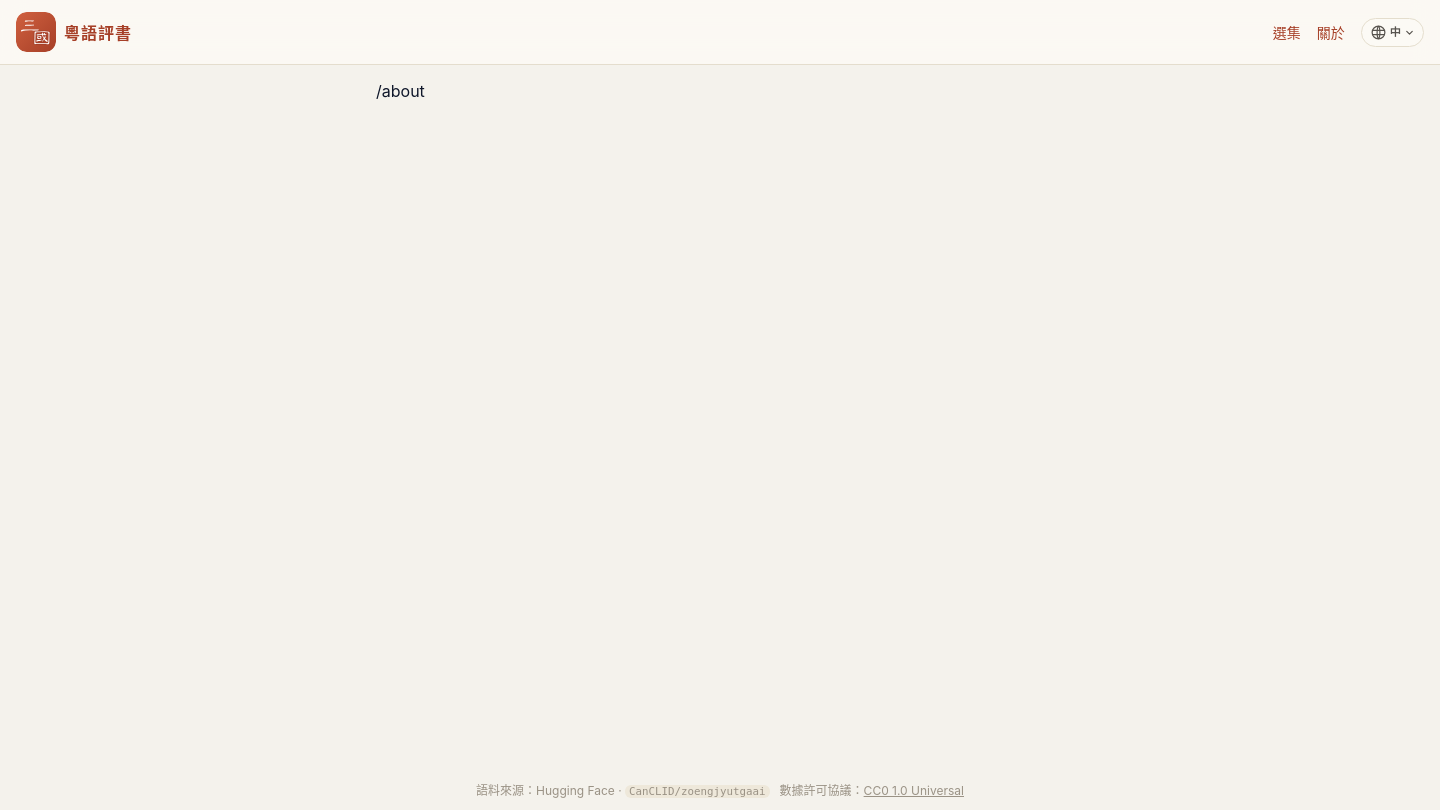
Layout brand and source footer › renders the wordmark and the source footer in the active locale
expect the text "粵語評書" is shown: met, box [64,20,132,44]
expect the text "語料來源：Hugging Face · CanCLID/zoengjyutgaai" is shown: met, box [476,781,770,798]
Click the button "中".
click(1392, 32)  # box [1361,18,1424,46]
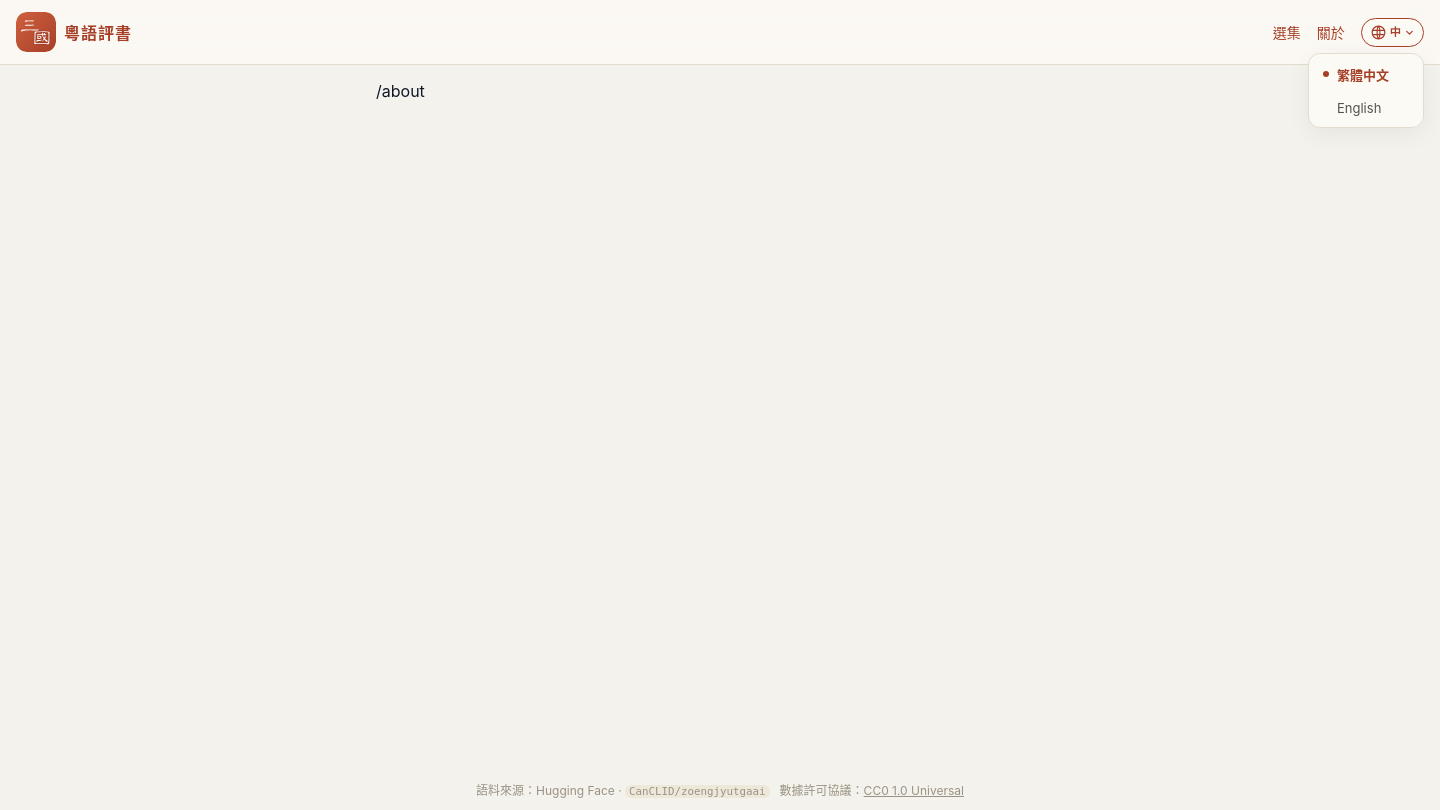
Click the button "English".
click(1366, 108)  # box [1313,92,1419,122]
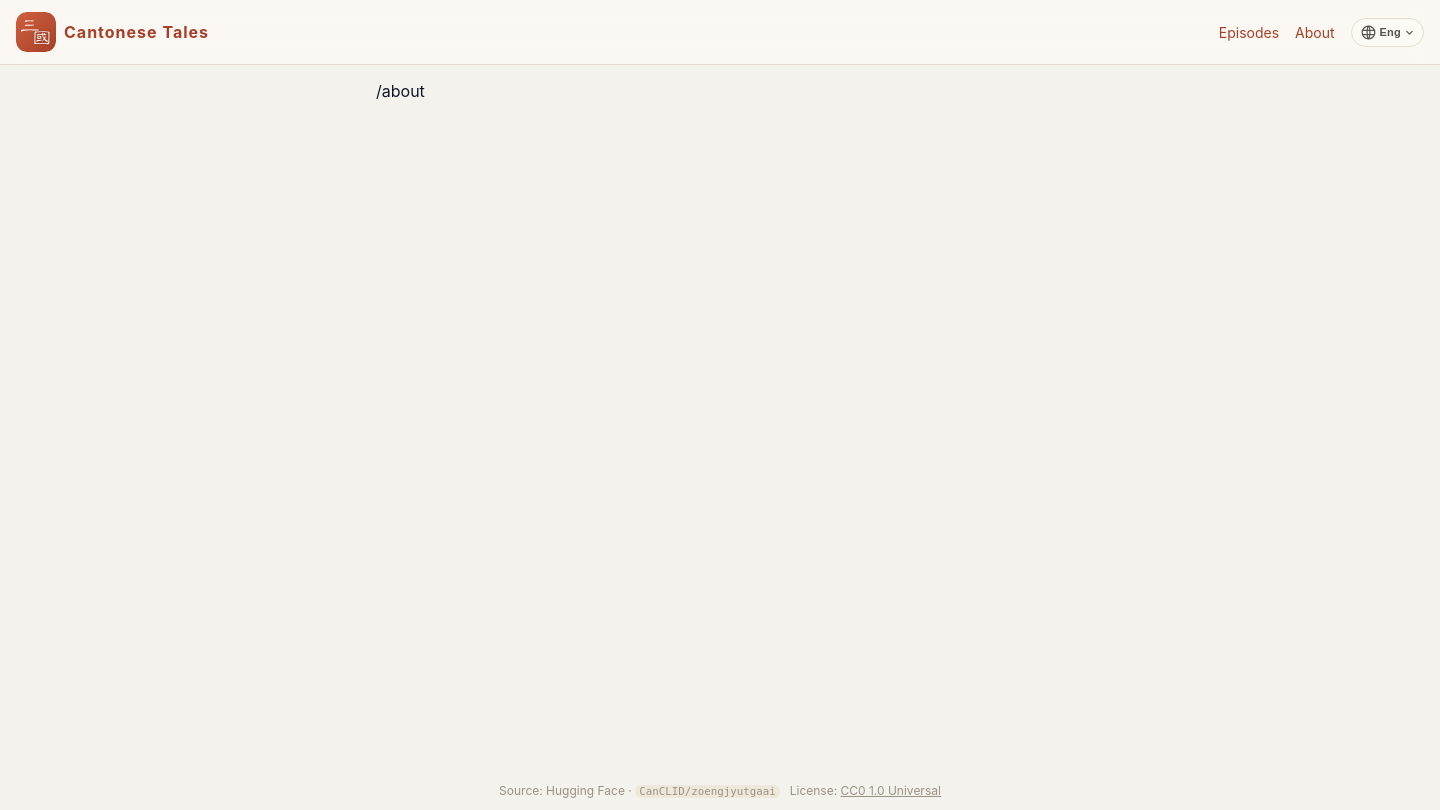
expect the text "Cantonese Tales" is shown: met, box [64,22,209,42]
expect the text "Source: Hugging Face · CanCLID/zoengjyutgaai" is shown: met, box [499,783,780,798]
expect the text "License: CC0 1.0 Universal" is shown: met, box [790,783,941,798]
